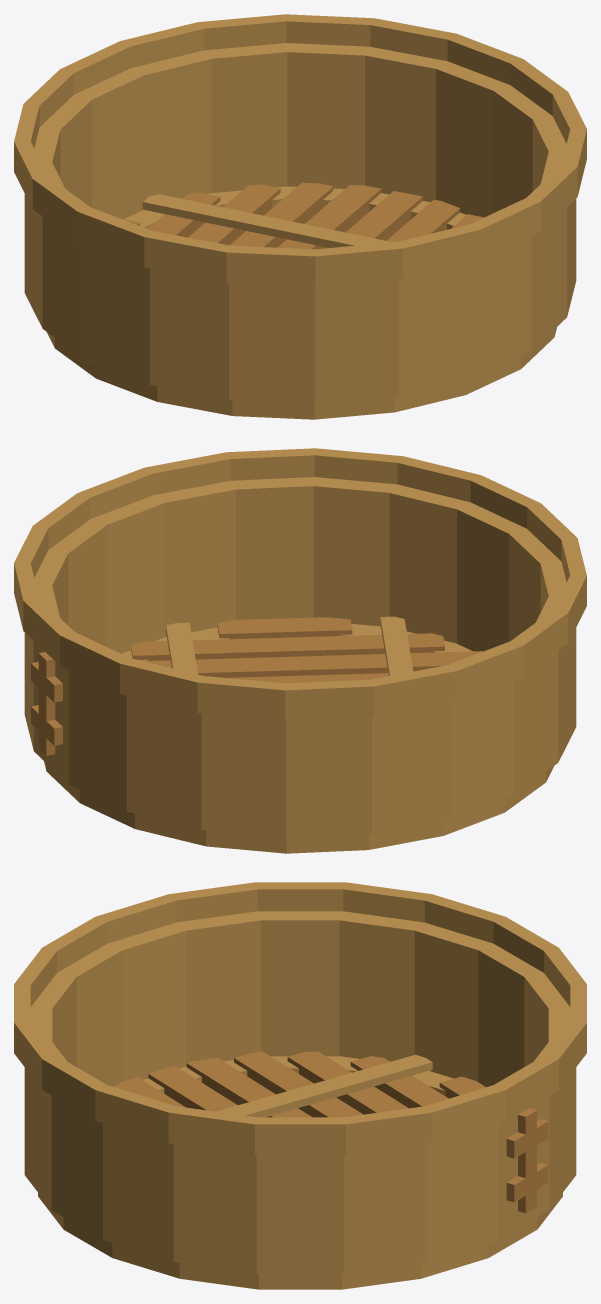
Rendered from SM_Cook_Steamer_Amber_01.fbx.
3 renders of one model, top to bottom at view 1: azimuth 30°, elevation 25°; view 2: azimuth 150°, elevation 25°; view 3: azimuth 270°, elevation 25°, orthographic.
Visible parts, largest first — view 1: SM_Cook_Steamer_Amber_01; view 2: SM_Cook_Steamer_Amber_01; view 3: SM_Cook_Steamer_Amber_01.
Part boxes in pixels (x1,y1,x2,y2): SM_Cook_Steamer_Amber_01: [14, 14, 586, 419]; SM_Cook_Steamer_Amber_01: [14, 448, 586, 853]; SM_Cook_Steamer_Amber_01: [14, 882, 586, 1289].
Size of the model in its own units: 0.237 by 0.08 by 0.237.
1 material, 1 textured.
